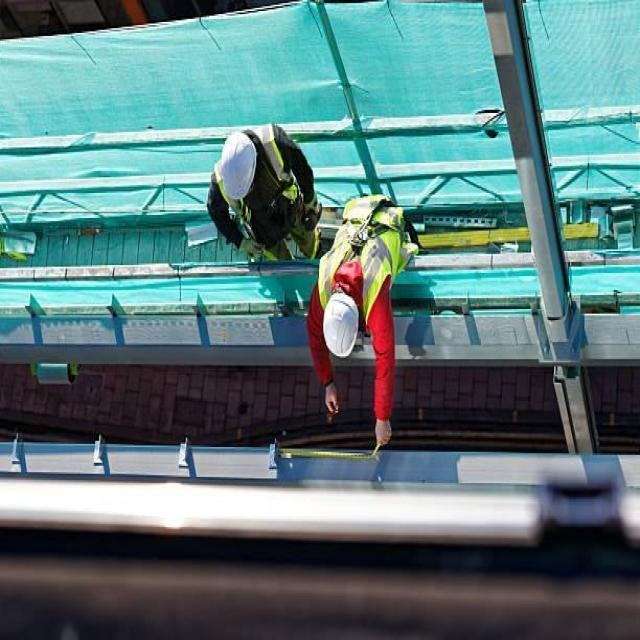Arnes_seguridad: (207, 122, 320, 261), (330, 190, 406, 306)
